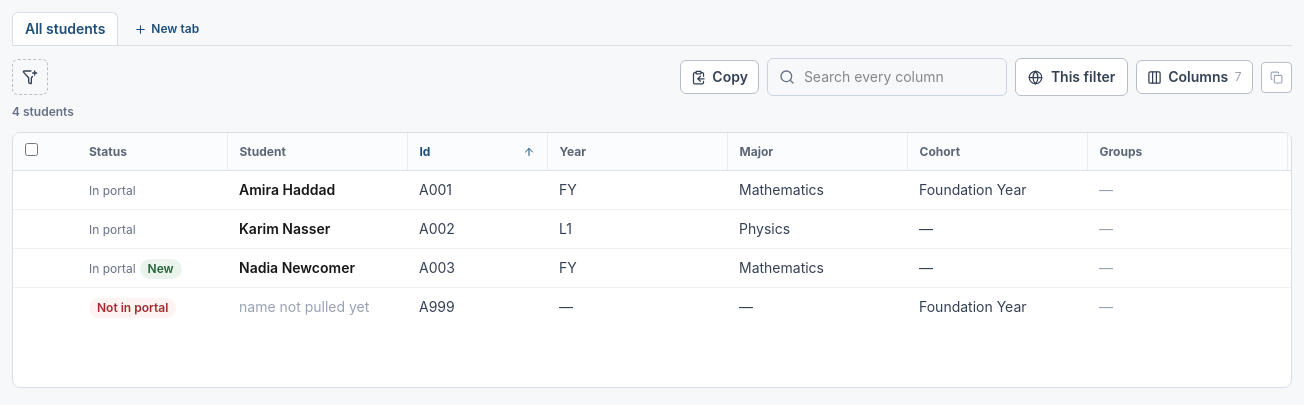
Test case: StudentRoster › searching › finds a student by the cohort they are in
Expected: the text "Amira Haddad" is shown, [239, 181, 335, 198]
In the search field named "Search students": (887, 77) [767, 58, 1007, 96], type "foundation"
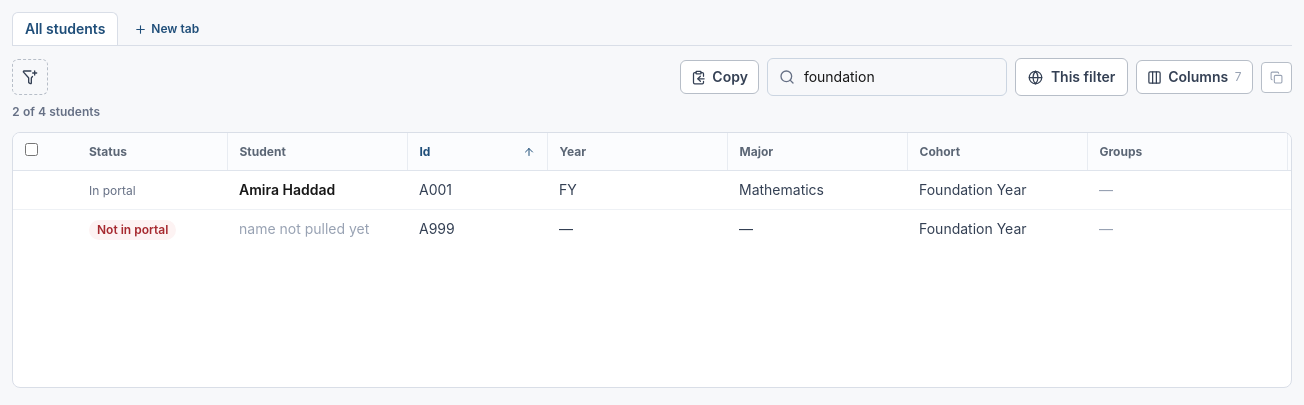
Expected: the text "Amira Haddad" is shown, [239, 181, 335, 198]
Now the text "Karim Nasser" is gone
